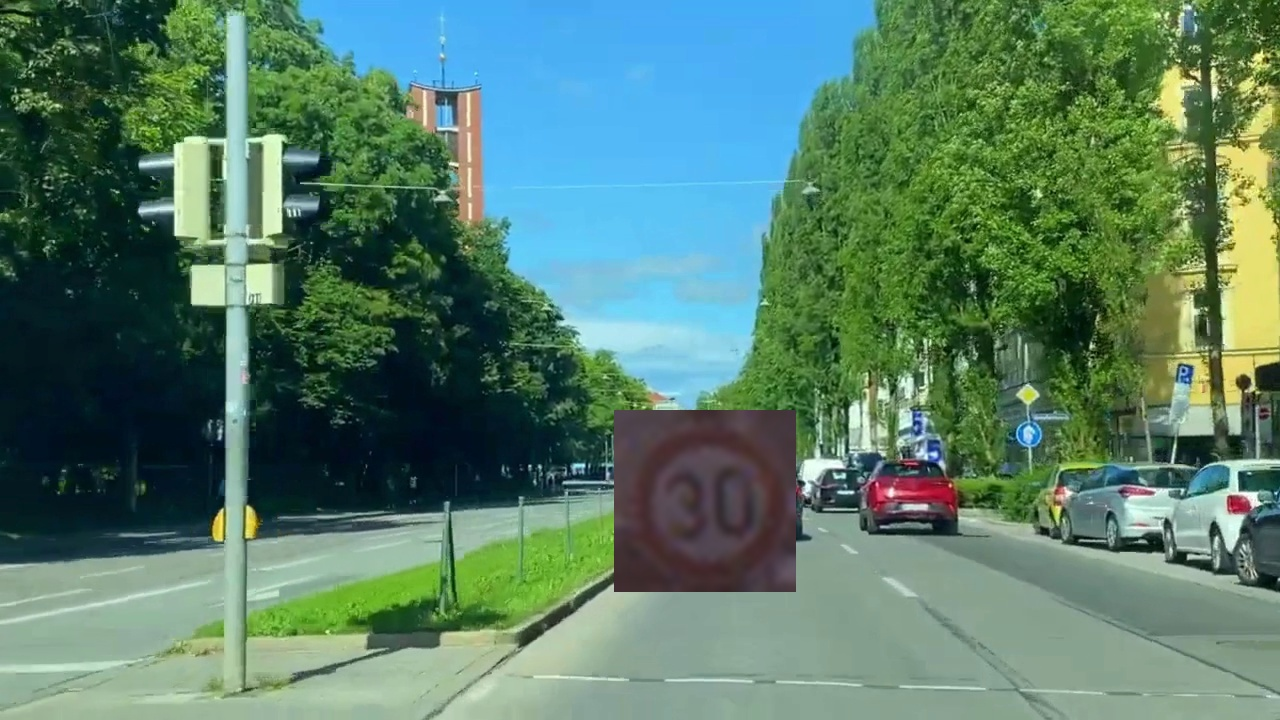Speed 30: (614, 410, 796, 592)
